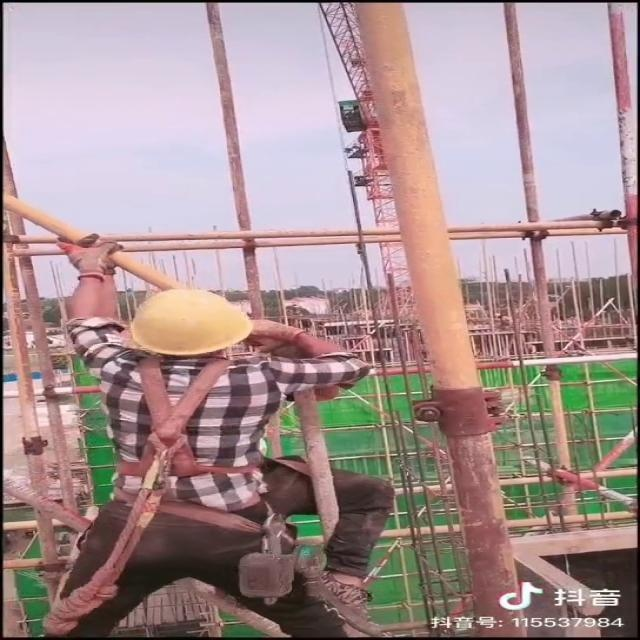Arnes_seguridad: (80, 352, 291, 542)
